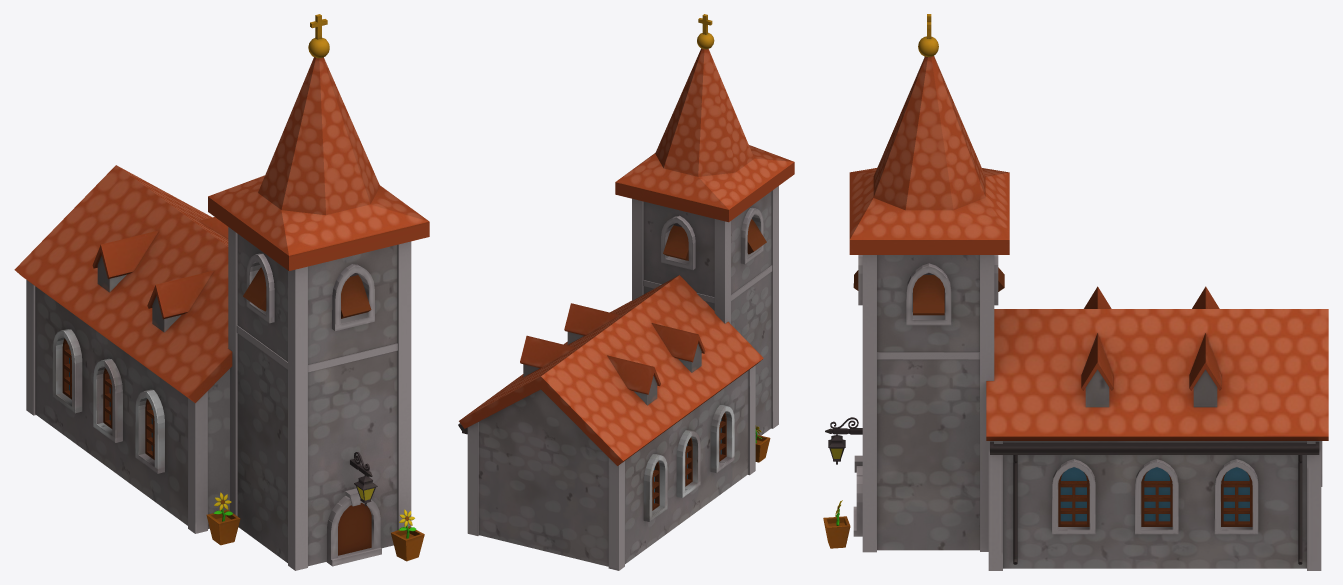
The model's file is church.glb.
The picture shows the model from 3 angles, left to right: view 1: azimuth 30°, elevation 25°; view 2: azimuth 150°, elevation 25°; view 3: azimuth 270°, elevation 25°; orthographic projection. The views are drawn at different scales.
Parts seen in each view (by area): view 1: polySurface156; view 2: polySurface156; view 3: polySurface156.
Part boxes in pixels (<box>): polySurface156: <box>14,14,429,570</box>; polySurface156: <box>458,14,794,570</box>; polySurface156: <box>823,14,1328,570</box>.
Size of the model in its own units: 5.86 by 13.9 by 12.48.
1 material, 1 textured.
